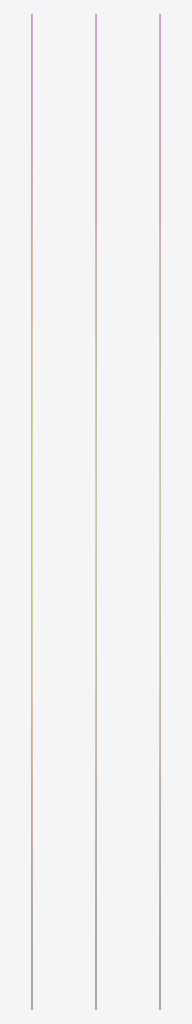
The model's file is SM_DarklineSingleLine_10_seg.FBX.
3 views of the same model, side by side, from view 1: azimuth 90°, elevation 25°; view 2: azimuth 150°, elevation 25°; view 3: azimuth 270°, elevation 25° (orthographic).
Parts seen in each view (by area): view 1: SM_DarklineSingleLine_10_seg; view 2: SM_DarklineSingleLine_10_seg; view 3: SM_DarklineSingleLine_10_seg.
Part boxes in pixels (x1=…): SM_DarklineSingleLine_10_seg: x1=31, y1=14, x2=32, y2=1009; SM_DarklineSingleLine_10_seg: x1=95, y1=14, x2=96, y2=1009; SM_DarklineSingleLine_10_seg: x1=159, y1=14, x2=160, y2=1009.
Size of the model in its own units: 0.015 by 0.0173 by 50.
